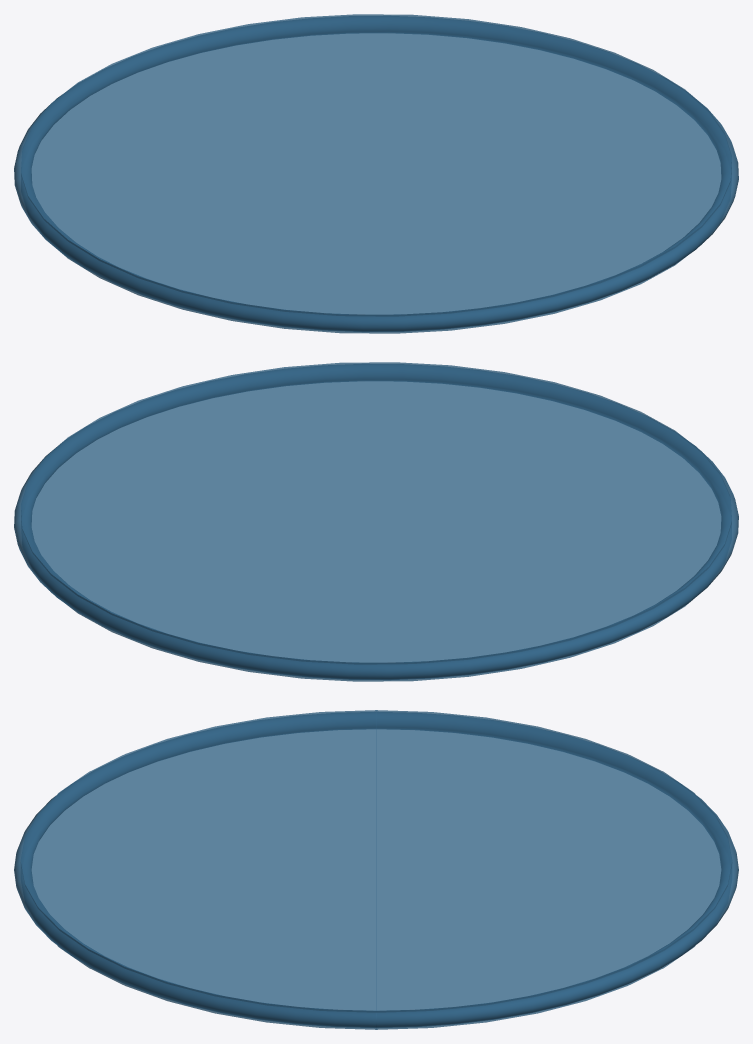
File: glass-plate.glb
The picture shows the model from 3 angles, top to bottom: view 1: azimuth 30°, elevation 25°; view 2: azimuth 150°, elevation 25°; view 3: azimuth 270°, elevation 25°; orthographic projection.
Visible parts, largest first — view 1: glass-plate part 1, glass-plate part 2; view 2: glass-plate part 1, glass-plate part 2; view 3: glass-plate part 1, glass-plate part 2.
Part boxes in pixels (x1,y1,x2,y2): glass-plate part 1: (21, 14, 731, 333); glass-plate part 2: (14, 16, 738, 332); glass-plate part 1: (21, 362, 731, 681); glass-plate part 2: (14, 364, 738, 680); glass-plate part 1: (20, 710, 732, 1029); glass-plate part 2: (14, 712, 738, 1028).
Bounding box in the file's own units: 0.1318 × 0.0038 × 0.1318.
